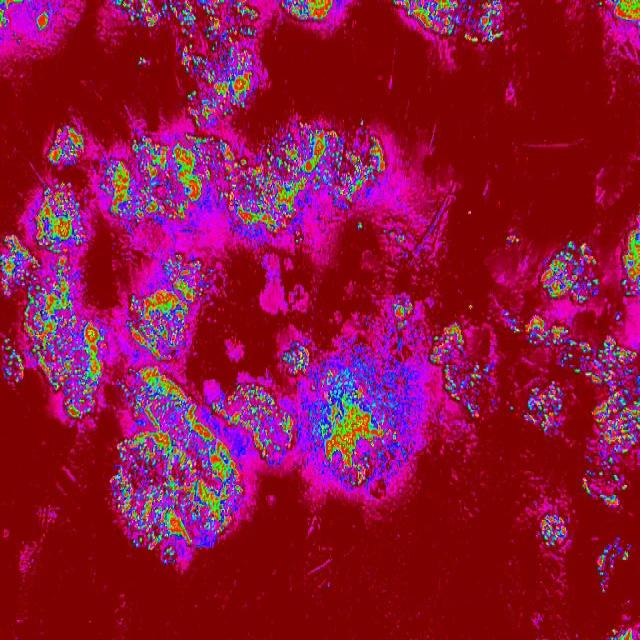fire: (106, 364, 295, 576), (0, 179, 105, 422), (296, 342, 422, 493), (221, 121, 385, 236), (100, 132, 218, 226), (584, 333, 640, 507), (125, 250, 212, 359), (178, 42, 260, 126), (111, 0, 260, 42), (431, 320, 495, 416), (394, 0, 511, 42), (539, 240, 600, 308), (524, 315, 584, 374), (595, 533, 633, 593), (524, 380, 566, 434), (48, 124, 86, 172), (619, 219, 640, 295), (280, 0, 338, 20), (536, 514, 568, 548), (0, 0, 26, 32), (611, 0, 640, 25), (604, 620, 640, 640), (390, 295, 416, 321), (502, 308, 524, 336), (34, 10, 54, 30), (388, 227, 406, 245), (282, 342, 296, 362), (502, 232, 521, 244), (134, 56, 148, 68), (612, 309, 624, 323), (596, 0, 606, 9), (508, 404, 516, 415), (16, 38, 24, 48), (466, 304, 474, 311), (466, 209, 473, 215)
